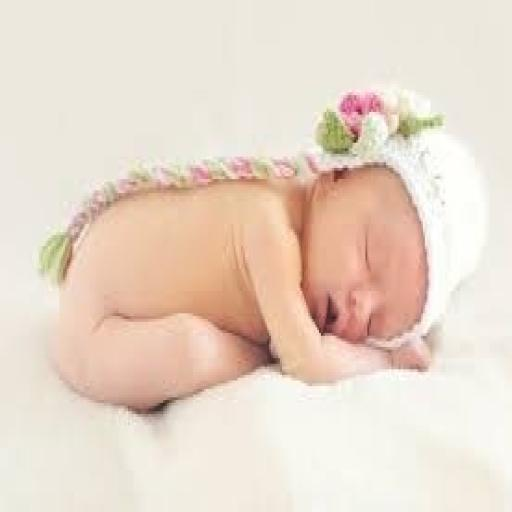sleeping: (37, 84, 488, 414)
